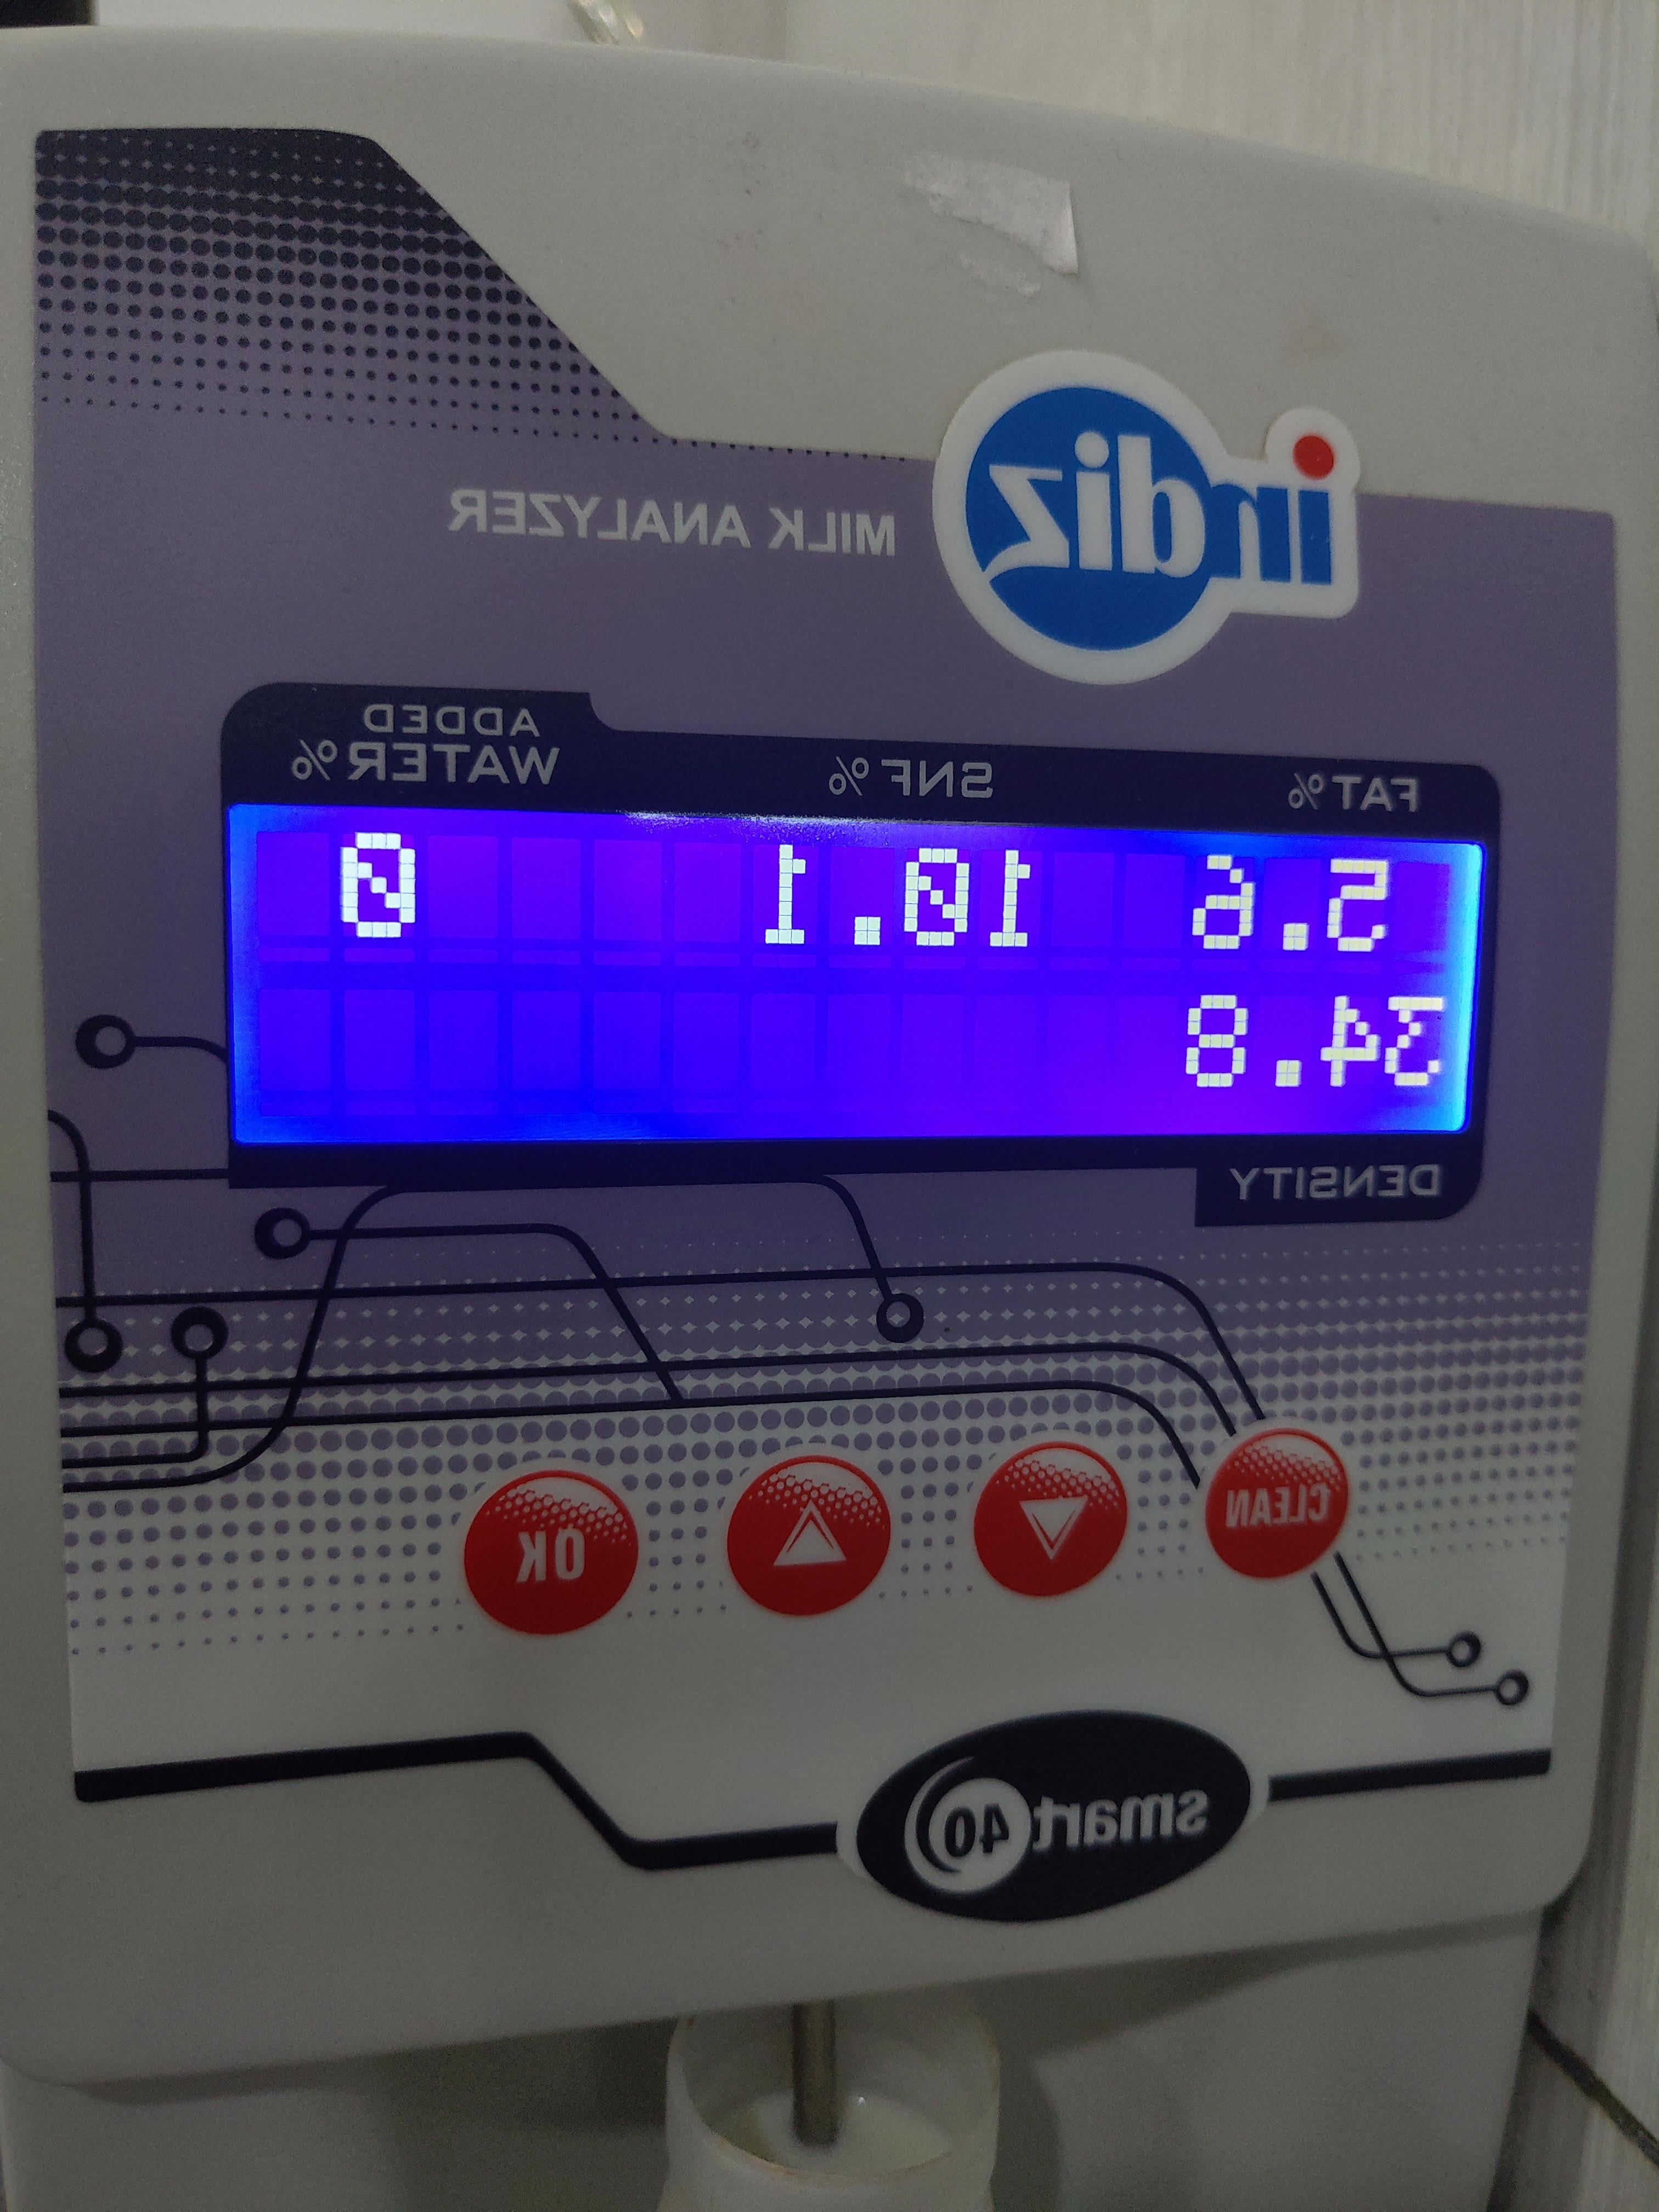lcd: (221, 773, 1490, 1205)
